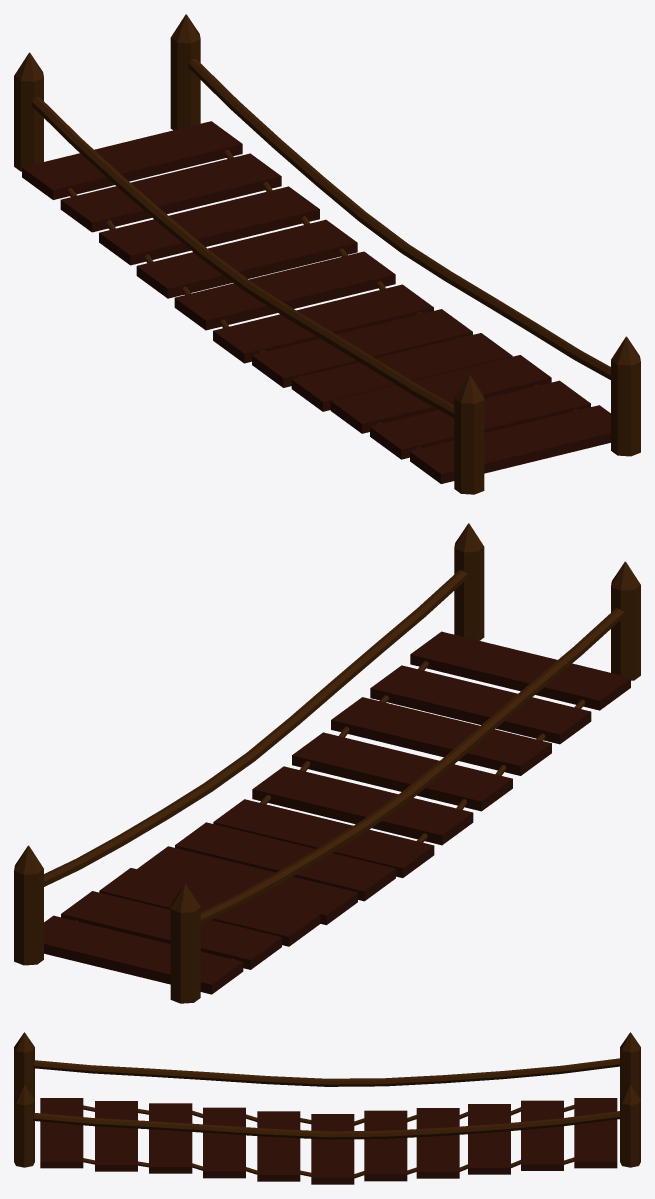
File: Bridge 2.FBX
The picture shows the model from 3 angles, top to bottom: view 1: azimuth 30°, elevation 25°; view 2: azimuth 150°, elevation 25°; view 3: azimuth 270°, elevation 25°; orthographic projection. The views are drawn at different scales.
Parts seen in each view (by area): view 1: Box011, Cylinder008, Cylinder001; view 2: Box011, Cylinder008, Cylinder001; view 3: Box011, Cylinder008, Cylinder001.
Boxes of the visible parts, x1,y1,x2,y2 form: Box011: (22,121,610,483); Cylinder008: (14,14,640,494); Cylinder001: (67,150,578,449); Box011: (44,631,630,994); Cylinder008: (14,523,640,1003); Cylinder001: (75,661,585,959); Box011: (40,1098,617,1184); Cylinder008: (14,1032,640,1167); Cylinder001: (83,1105,574,1178).
Bounding box in the file's own units: 0.1944 × 0.1341 × 0.8087.
